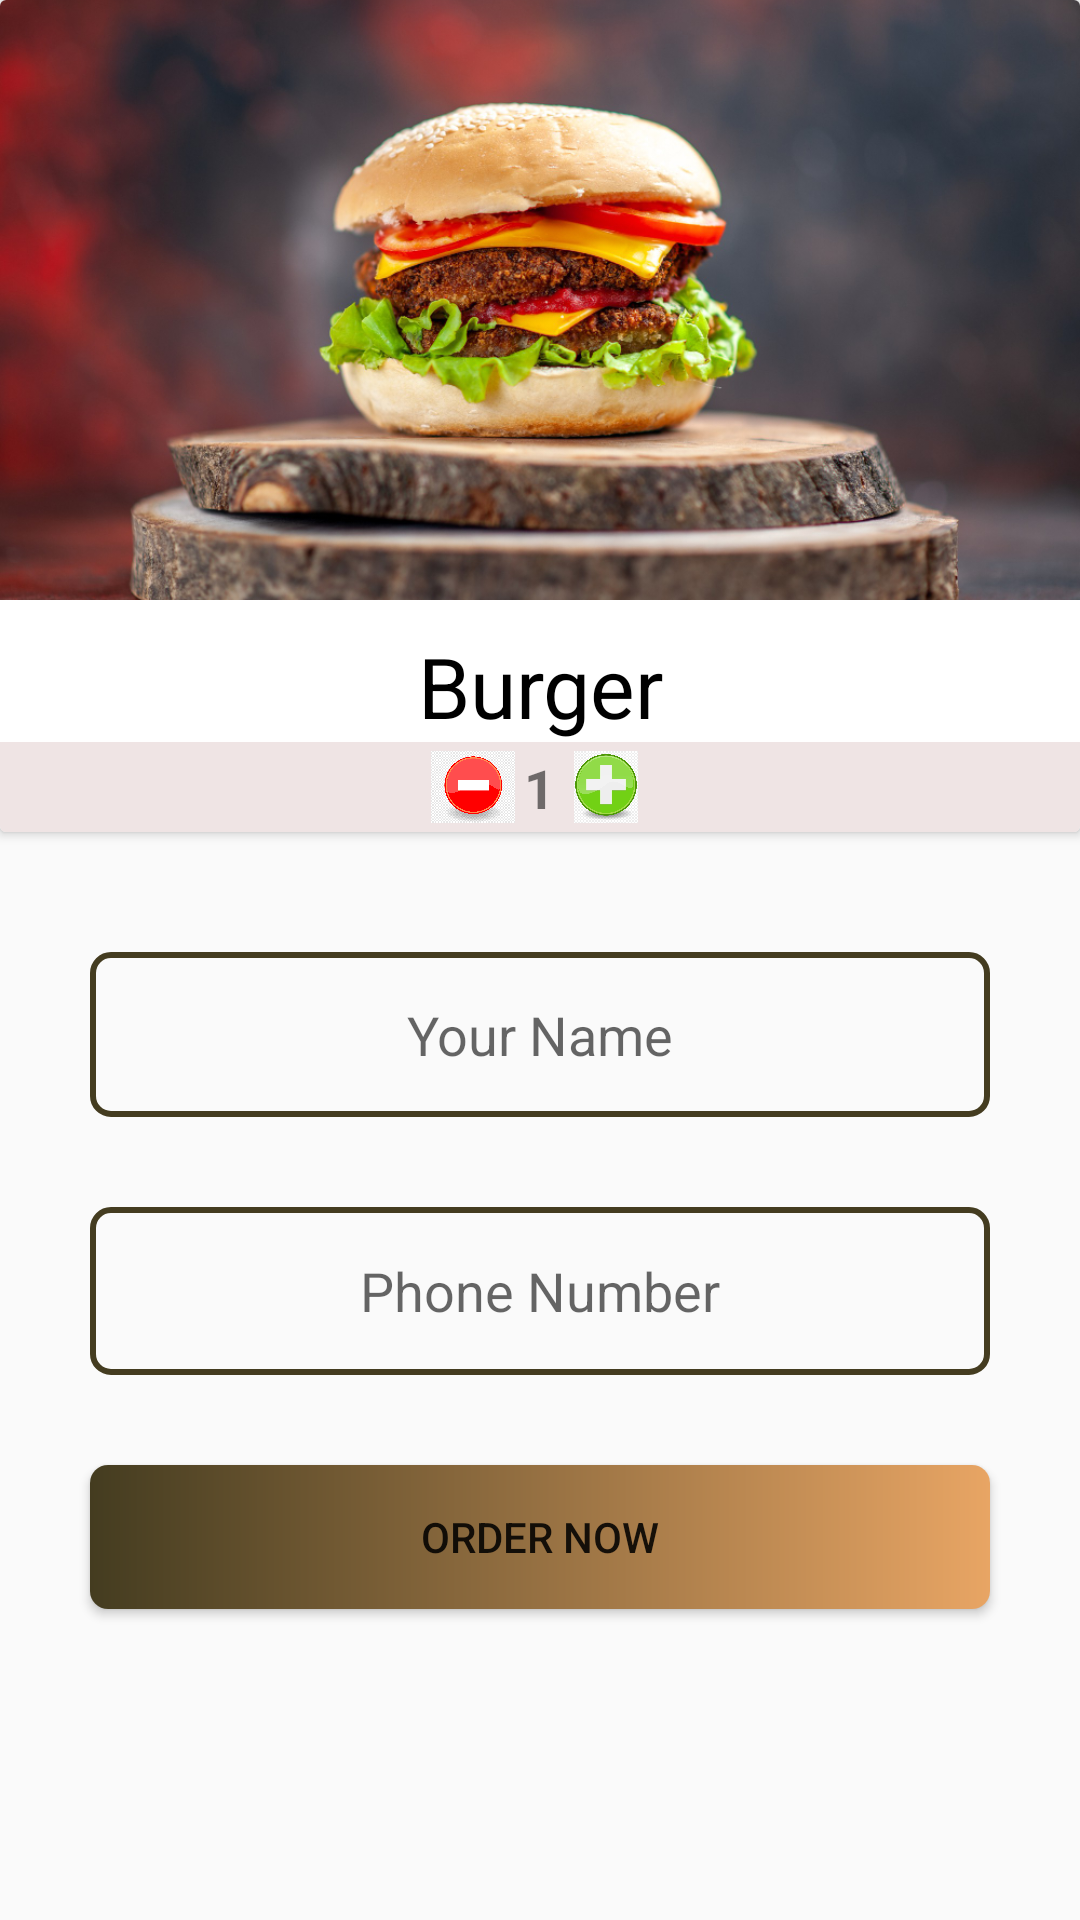

Where to tap for icons on this 1080px×1920px app screen, as (x,y):
minus: (473,787)
plussign: (606,787)
